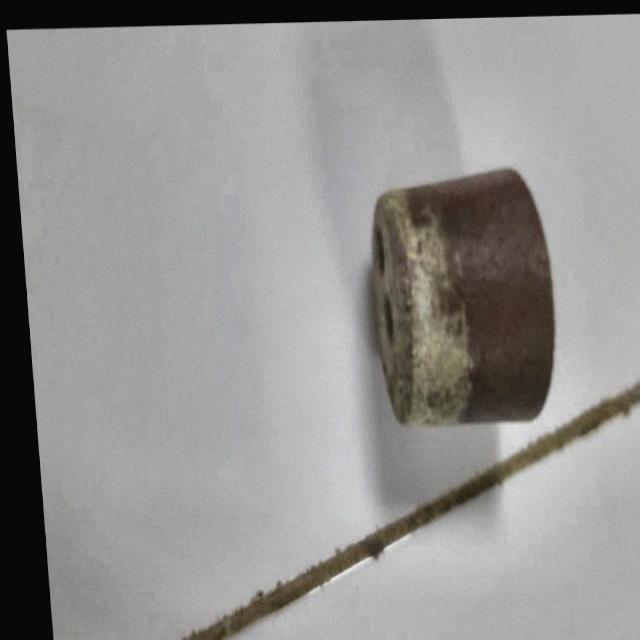Stopper: (359, 166, 566, 434)
